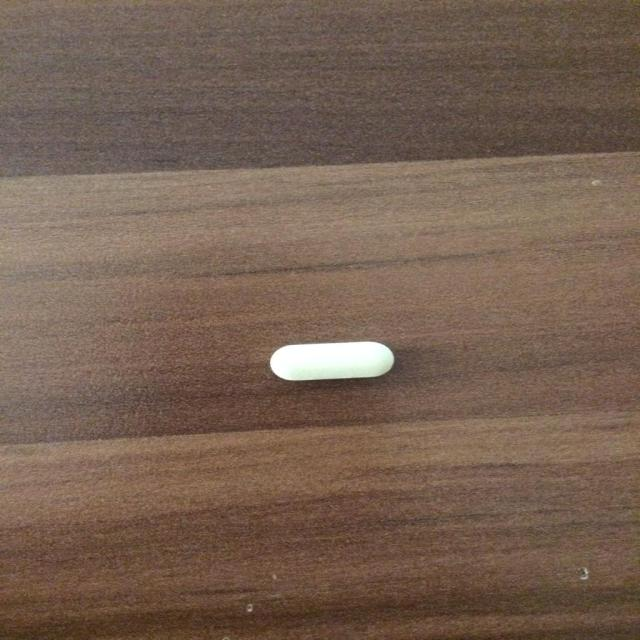pills: (254, 329, 410, 391)
